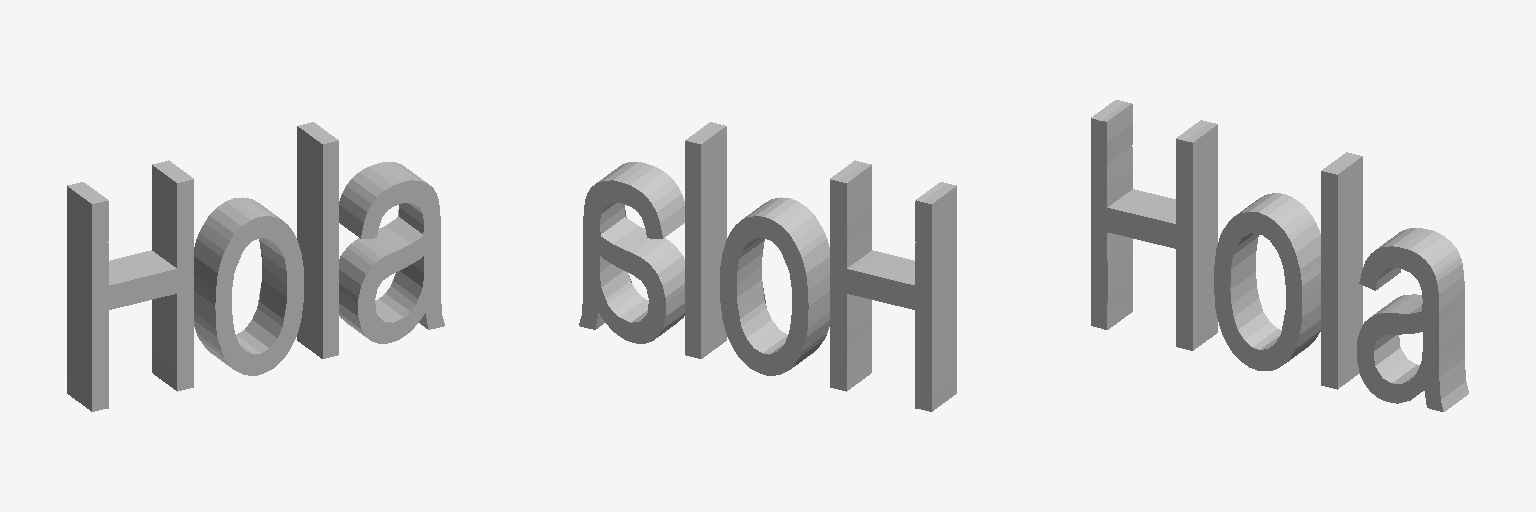
File: hworld.obj
3 renders of one model, left to right at view 1: azimuth 30°, elevation 25°; view 2: azimuth 150°, elevation 25°; view 3: azimuth 330°, elevation 25°, orthographic.
Visible parts, largest first — view 1: Plane, Plane.003, Plane.001, Plane.002; view 2: Plane, Plane.003, Plane.001, Plane.002; view 3: Plane, Plane.003, Plane.001, Plane.002.
Boxes of the visible parts, x1=… form: Plane: x1=67, y1=160, x2=193, y2=411; Plane.003: x1=339, y1=162, x2=444, y2=343; Plane.001: x1=194, y1=197, x2=303, y2=375; Plane.002: x1=297, y1=122, x2=338, y2=358; Plane: x1=830, y1=160, x2=956, y2=411; Plane.003: x1=579, y1=162, x2=684, y2=343; Plane.001: x1=720, y1=197, x2=829, y2=375; Plane.002: x1=685, y1=122, x2=726, y2=358; Plane: x1=1091, y1=100, x2=1217, y2=350; Plane.003: x1=1357, y1=228, x2=1468, y2=411; Plane.001: x1=1214, y1=193, x2=1320, y2=370; Plane.002: x1=1321, y1=152, x2=1362, y2=389.
Size of the model in its own units: 1.79 by 1.04 by 0.2238.